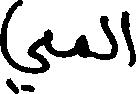X: (0, 0, 47, 93), (122, 6, 135, 71), (100, 11, 115, 64), (76, 30, 87, 62)
